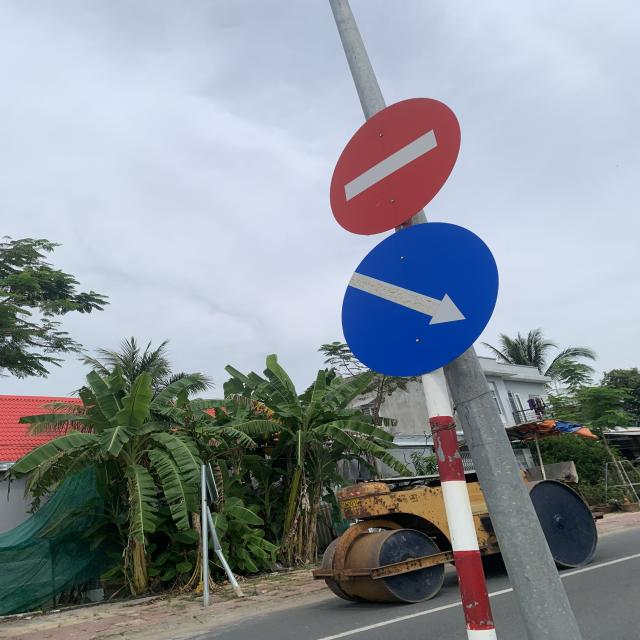Cam_Di_Nguoc_Chieu: (328, 96, 460, 236)
Chi_Huong_Di_Phai: (342, 222, 500, 378)
